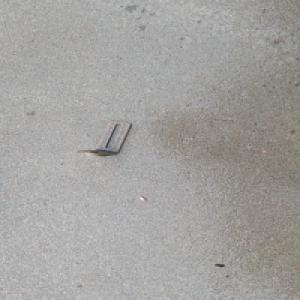MetalPart: (75, 119, 132, 156)
